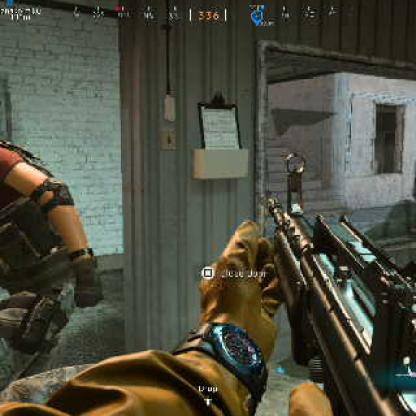enemy: (1, 136, 100, 354)
